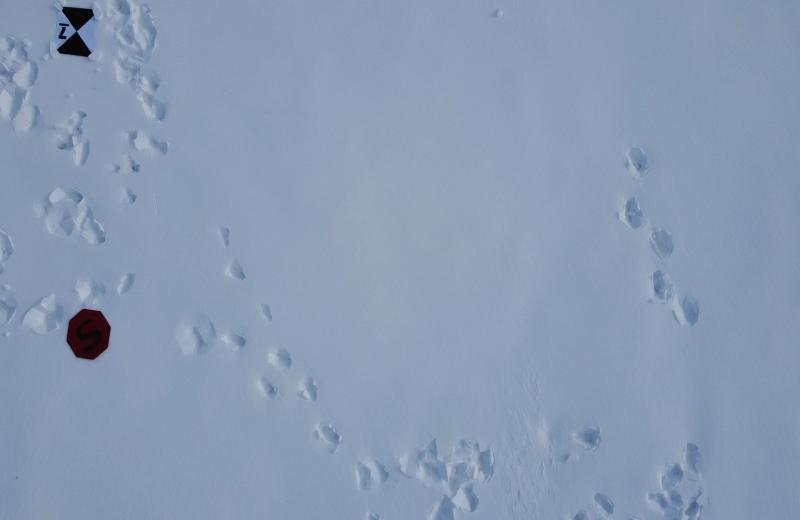Octagon: (66, 307, 113, 361)
